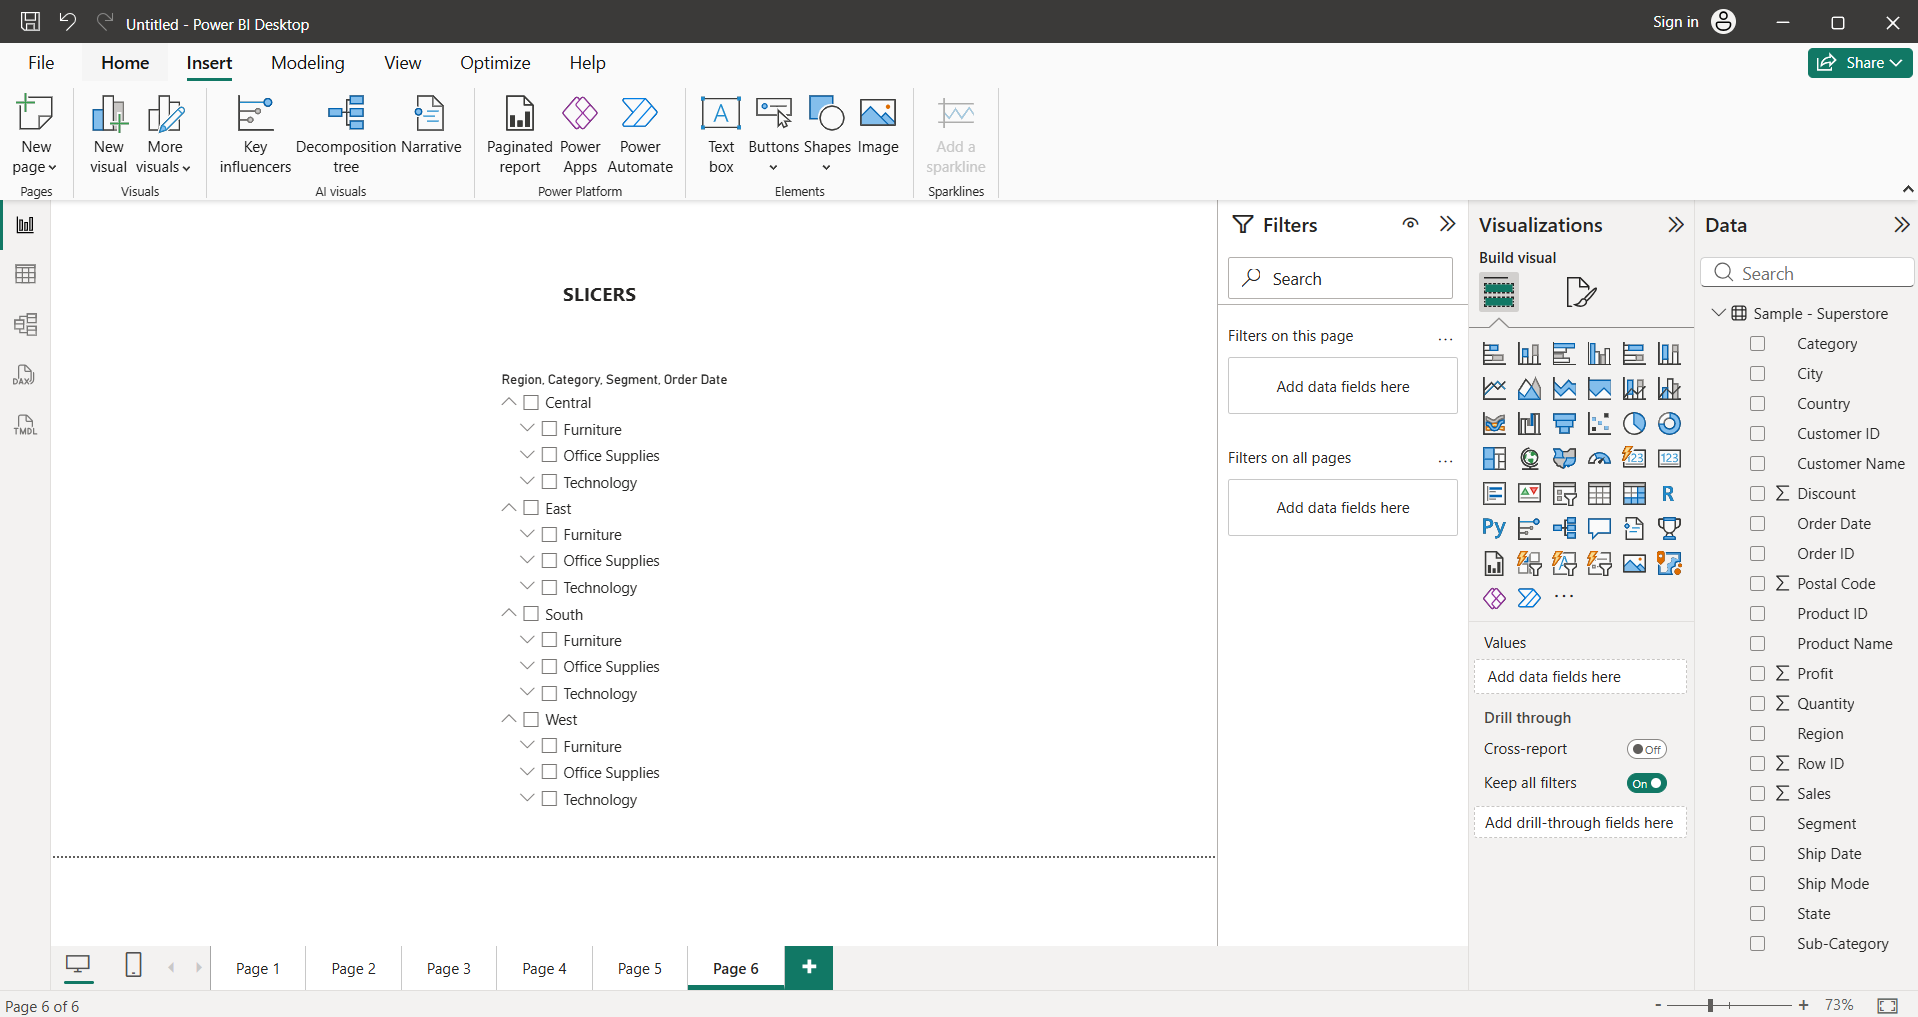

The page's visual inventory and layout, read from the dashboard file:
{"tool":"powerbi","page":{"name":"Page 8","canvas":[1280,720],"ordinal":7},"visuals":[{"type":"slicer","fields":{"Values":["Sample - Superstore.Region","Sample - Superstore.Category","Sample - Superstore.Segment","Sample - Superstore.Order Date"]},"box":[466.2,177.5,423.9,508.5],"z":0},{"type":"textbox","box":[605.6,78.9,400,62],"z":1000}]}

Visuals, with their boxes on the page's 1280x720 design canvas (x1, y1, x2, y2). These are canvas units, not pixel positions in the 1918x1017 screenshot, which may show the page scaled, cropped or inside an application window:
slicer - Sample - Superstore.Region x Sample - Superstore.Category: 466/178/890/686
textbox: 606/79/1006/141
